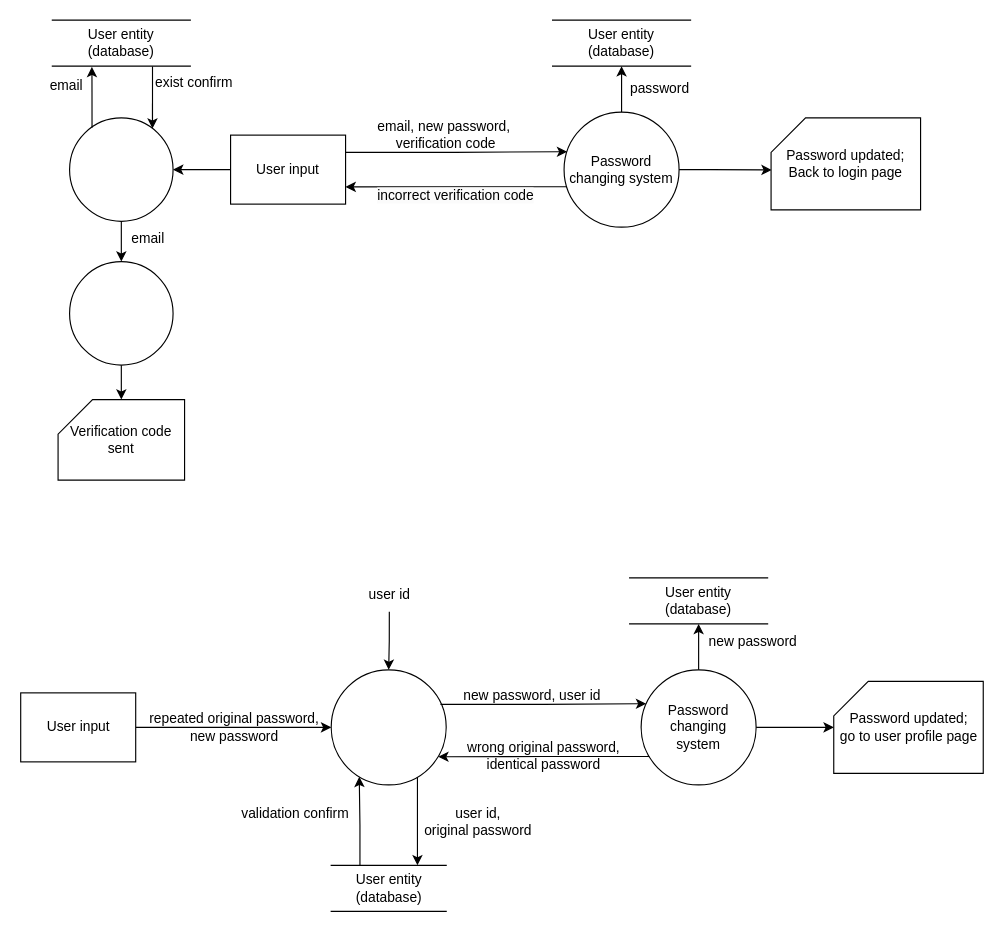
The diagram is 1003 pixels wide and 932 high, and some of its shapes have lost their labels. The shapes that lost their labels are listed below. From the top down, each one's centre as x and y in pixels, then its label:
At (x=120, y=169): "Email verifying system".
At (x=120, y=312): "Sending verification email".
At (x=388, y=727): "Password verifying system".
